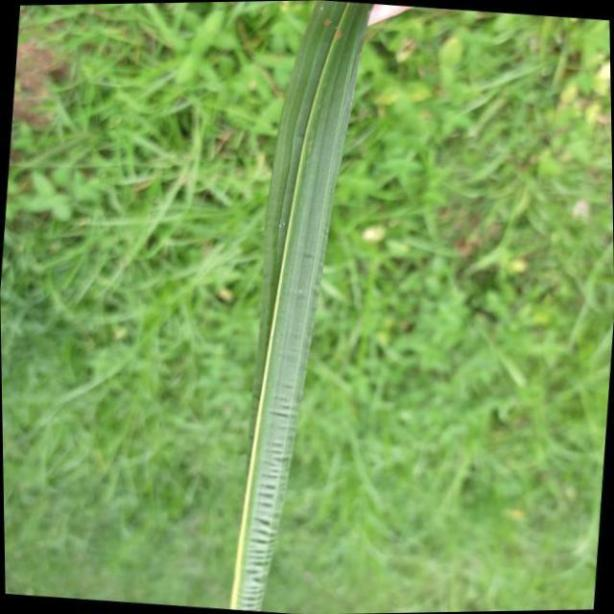Boron: (224, 5, 377, 614)
